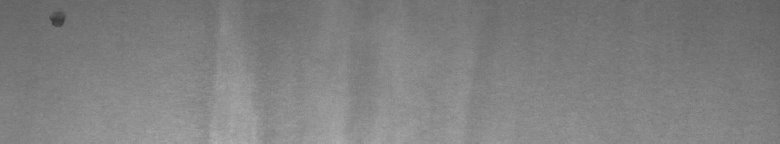fi: (47, 5, 68, 34)
